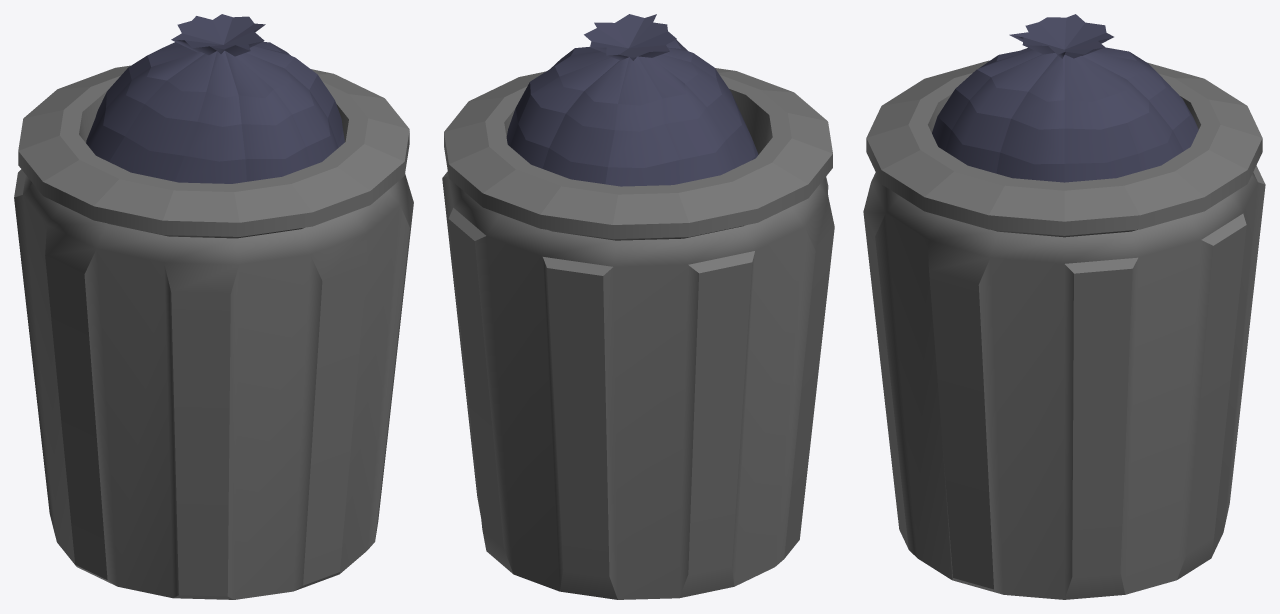
Rendered from Trashcan1.fbx.
3 renders of one model, left to right at view 1: azimuth 30°, elevation 25°; view 2: azimuth 150°, elevation 25°; view 3: azimuth 270°, elevation 25°, orthographic.
Visible parts, largest first — view 1: Bin, Bag1; view 2: Bin, Bag1; view 3: Bin, Bag1.
Part boxes in pixels (x1=…): Bin: x1=14, y1=65, x2=413, y2=599; Bag1: x1=86, y1=14, x2=344, y2=183; Bin: x1=442, y1=68, x2=834, y2=599; Bag1: x1=506, y1=14, x2=758, y2=186; Bin: x1=863, y1=60, x2=1265, y2=599; Bag1: x1=932, y1=14, x2=1198, y2=182.
Size of the model in its own units: 2.08 by 2.87 by 2.08.
